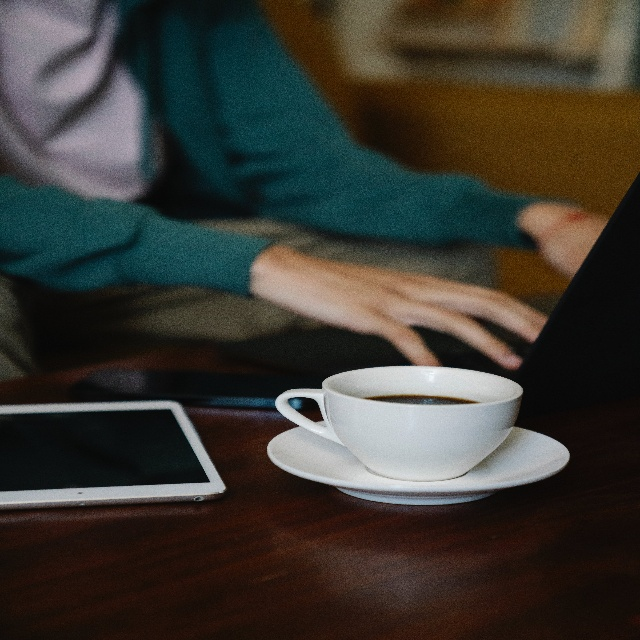Sin_guantes: (254, 249, 548, 367)
